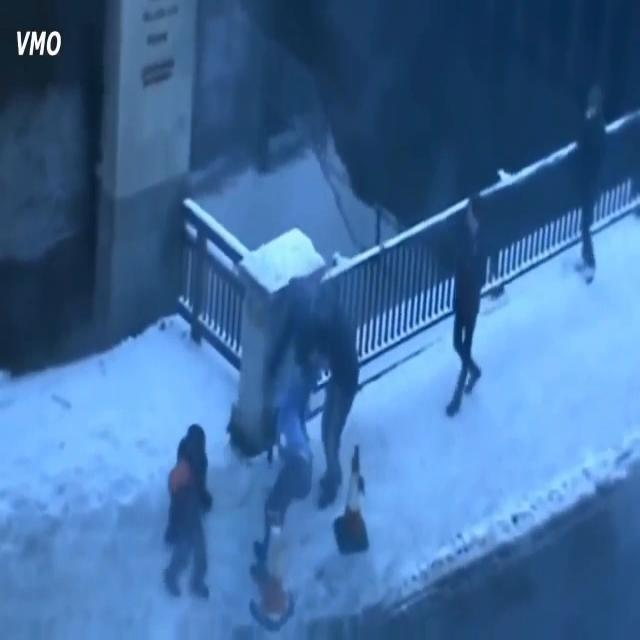fall: (158, 420, 214, 608), (260, 391, 312, 551)
